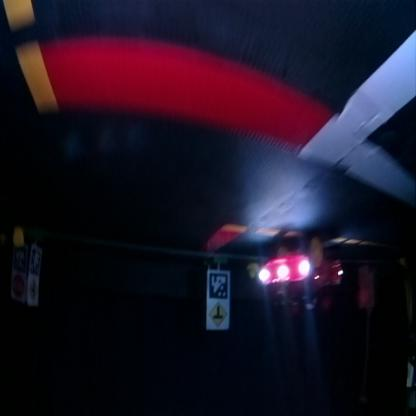Duckie: (12, 229, 24, 248), (246, 263, 258, 280)
Duckiebot: (260, 239, 343, 301)
Intersection sign: (208, 302, 228, 330), (28, 278, 38, 303)
QR code: (209, 274, 228, 300), (12, 247, 24, 271), (30, 248, 40, 276)
Stop sign: (11, 276, 25, 300)
